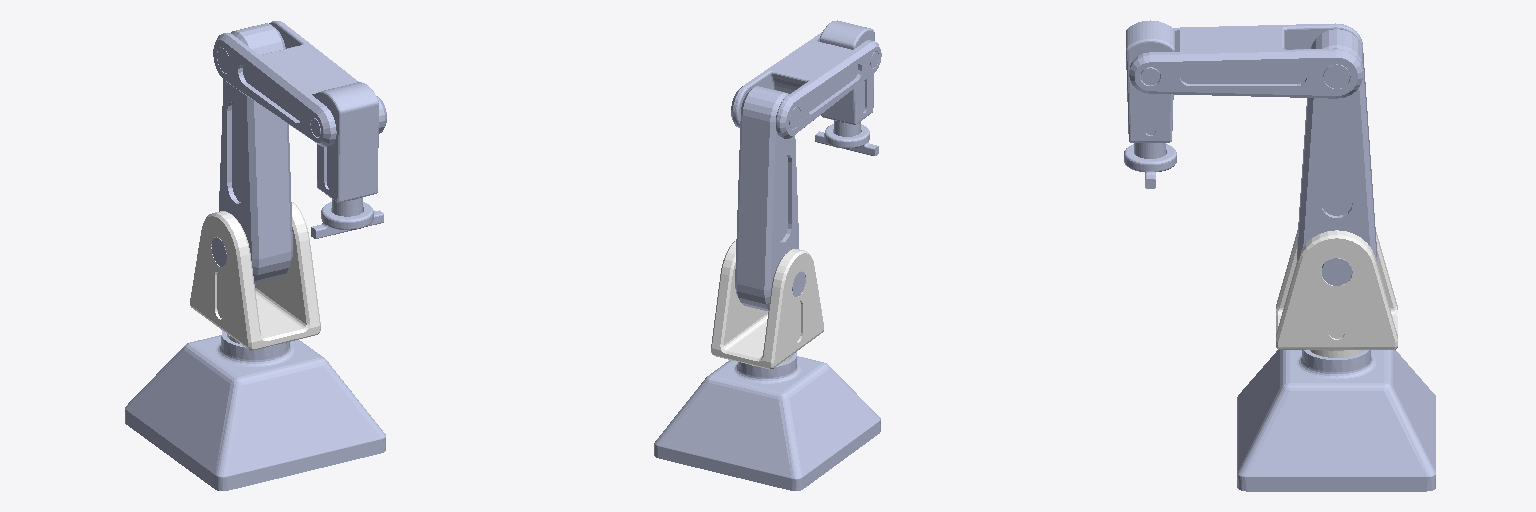
robot.urdf — Assembly_urdf_trial1:
<?xml version="1.0" encoding="utf-8"?>
<!-- This URDF was automatically created by SolidWorks to URDF Exporter! Originally created by [author] ([email redacted]) 
     Commit Version: 1.6.0-4-g7f85cfe  Build Version: 1.6.7995.38578
     For more information, please see http://wiki.ros.org/sw_urdf_exporter -->
<robot
  name="Assembly_urdf_trial1">
  <link
    name="base_link">
    <inertial>
      <origin
        xyz="3.4694E-18 6.245E-17 0.073876"
        rpy="0 0 0" />
      <mass
        value="17.147" />
      <inertia
        ixx="0.192"
        ixy="4.9423E-10"
        ixz="-1.1133E-18"
        iyy="0.192"
        iyz="2.525E-17"
        izz="0.29544" />
    </inertial>
    <visual>
      <origin
        xyz="0 0 0"
        rpy="0 0 0" />
      <geometry>
        <mesh
          filename="package://Assembly_urdf_trial1/meshes/base_link.STL" />
      </geometry>
      <material
        name="">
        <color
          rgba="0.79216 0.81961 0.93333 1" />
      </material>
    </visual>
    <collision>
      <origin
        xyz="0 0 0"
        rpy="0 0 0" />
      <geometry>
        <mesh
          filename="package://Assembly_urdf_trial1/meshes/base_link.STL" />
      </geometry>
    </collision>
  </link>
  <link
    name="Lni_1">
    <inertial>
      <origin
        xyz="-7.8988E-11 -2.5709E-14 0.31047"
        rpy="0 0 0" />
      <mass
        value="3.0905" />
      <inertia
        ixx="0.025388"
        ixy="-1.4177E-12"
        ixz="-7.4535E-12"
        iyy="0.026302"
        iyz="-2.53E-15"
        izz="0.019632" />
    </inertial>
    <visual>
      <origin
        xyz="0 0 0"
        rpy="0 0 0" />
      <geometry>
        <mesh
          filename="package://Assembly_urdf_trial1/meshes/Lni_1.STL" />
      </geometry>
      <material
        name="">
        <color
          rgba="1 1 1 1" />
      </material>
    </visual>
    <collision>
      <origin
        xyz="0 0 0"
        rpy="0 0 0" />
      <geometry>
        <mesh
          filename="package://Assembly_urdf_trial1/meshes/Lni_1.STL" />
      </geometry>
    </collision>
  </link>
  <joint
    name="Joint_1"
    type="revolute">
    <origin
      xyz="0 0 0"
      rpy="0 0 0" />
    <parent
      link="base_link" />
    <child
      link="Lni_1" />
    <axis
      xyz="0 0 1" />
    <limit
      lower="0"
      upper="3.14"
      effort="300"
      velocity="3" />
  </joint>
  <link
    name="Link_2">
    <inertial>
      <origin
        xyz="-1.7347E-17 -1.3878E-17 0.57252"
        rpy="0 0 0" />
      <mass
        value="5.5867" />
      <inertia
        ixx="0.12911"
        ixy="6.6174E-21"
        ixz="3.9362E-18"
        iyy="0.12632"
        iyz="2.3297E-18"
        izz="0.011401" />
    </inertial>
    <visual>
      <origin
        xyz="0 0 0"
        rpy="0 0 0" />
      <geometry>
        <mesh
          filename="package://Assembly_urdf_trial1/meshes/Link_2.STL" />
      </geometry>
      <material
        name="">
        <color
          rgba="0.79216 0.81961 0.93333 1" />
      </material>
    </visual>
    <collision>
      <origin
        xyz="0 0 0"
        rpy="0 0 0" />
      <geometry>
        <mesh
          filename="package://Assembly_urdf_trial1/meshes/Link_2.STL" />
      </geometry>
    </collision>
  </link>
  <joint
    name="Joint_2"
    type="revolute">
    <origin
      xyz="0 0 0"
      rpy="0 0 0" />
    <parent
      link="Lni_1" />
    <child
      link="Link_2" />
    <axis
      xyz="-1 0 0" />
    <limit
      lower="-1.57"
      upper="1.57"
      effort="200"
      velocity="3" />
  </joint>
  <link
    name="Link_3">
    <inertial>
      <origin
        xyz="-5.5511E-17 -0.17893 0.805"
        rpy="0 0 0" />
      <mass
        value="2.8262" />
      <inertia
        ixx="0.025128"
        ixy="1.9707E-17"
        ixz="-3.4736E-10"
        iyy="0.0074041"
        iyz="-2.4588E-18"
        izz="0.028552" />
    </inertial>
    <visual>
      <origin
        xyz="0 0 0"
        rpy="0 0 0" />
      <geometry>
        <mesh
          filename="package://Assembly_urdf_trial1/meshes/Link_3.STL" />
      </geometry>
      <material
        name="">
        <color
          rgba="0.79216 0.81961 0.93333 1" />
      </material>
    </visual>
    <collision>
      <origin
        xyz="0 0 0"
        rpy="0 0 0" />
      <geometry>
        <mesh
          filename="package://Assembly_urdf_trial1/meshes/Link_3.STL" />
      </geometry>
    </collision>
  </link>
  <joint
    name="Joint_3"
    type="revolute">
    <origin
      xyz="0 0 0"
      rpy="0 0 0" />
    <parent
      link="Link_2" />
    <child
      link="Link_3" />
    <axis
      xyz="1 0 0" />
    <limit
      lower="0"
      upper="3.14"
      effort="200"
      velocity="3" />
  </joint>
  <link
    name="Link_4">
    <inertial>
      <origin
        xyz="-1.0408E-17 -0.35 0.75333"
        rpy="0 0 0" />
      <mass
        value="1.8097" />
      <inertia
        ixx="0.0093908"
        ixy="1.8694E-19"
        ixz="-2.4653E-19"
        iyy="0.0096102"
        iyz="5.6659E-18"
        izz="0.0023112" />
    </inertial>
    <visual>
      <origin
        xyz="0 0 0"
        rpy="0 0 0" />
      <geometry>
        <mesh
          filename="package://Assembly_urdf_trial1/meshes/Link_4.STL" />
      </geometry>
      <material
        name="">
        <color
          rgba="0.79216 0.81961 0.93333 1" />
      </material>
    </visual>
    <collision>
      <origin
        xyz="0 0 0"
        rpy="0 0 0" />
      <geometry>
        <mesh
          filename="package://Assembly_urdf_trial1/meshes/Link_4.STL" />
      </geometry>
    </collision>
  </link>
  <joint
    name="Joint_4"
    type="revolute">
    <origin
      xyz="0 0 0"
      rpy="0 0 0" />
    <parent
      link="Link_3" />
    <child
      link="Link_4" />
    <axis
      xyz="1 0 0" />
    <limit
      lower="0"
      upper="-3.14"
      effort="200"
      velocity="3" />
  </joint>
  <link
    name="Link_5">
    <inertial>
      <origin
        xyz="1.3878E-17 -0.35 0.59846"
        rpy="0 0 0" />
      <mass
        value="0.19053" />
      <inertia
        ixx="0.00011843"
        ixy="1.9664E-11"
        ixz="8.9939E-21"
        iyy="0.00022817"
        iyz="-2.3495E-19"
        izz="0.00030197" />
    </inertial>
    <visual>
      <origin
        xyz="0 0 0"
        rpy="0 0 0" />
      <geometry>
        <mesh
          filename="package://Assembly_urdf_trial1/meshes/Link_5.STL" />
      </geometry>
      <material
        name="">
        <color
          rgba="0.79216 0.81961 0.93333 1" />
      </material>
    </visual>
    <collision>
      <origin
        xyz="0 0 0"
        rpy="0 0 0" />
      <geometry>
        <mesh
          filename="package://Assembly_urdf_trial1/meshes/Link_5.STL" />
      </geometry>
    </collision>
  </link>
  <joint
    name="Joint_5"
    type="revolute">
    <origin
      xyz="0 0 0"
      rpy="0 0 0" />
    <parent
      link="Link_4" />
    <child
      link="Link_5" />
    <axis
      xyz="0 0 1" />
    <limit
      lower="0"
      upper="3.14"
      effort="200"
      velocity="3" />
  </joint>
</robot>

--- What the picture shows (computed from the rendered views, not written in the file) ---
Views: 3 orthographic renders of the robot side by side, from view 1: azimuth 30°, elevation 25°; view 2: azimuth 150°, elevation 25°; view 3: azimuth 270°, elevation 25°.
Model Assembly_urdf_trial1 with 6 links and 5 joints (5 revolute), rooted at base_link, posed all joints at 0.
Links seen in each view (by area): view 1: base_link, Link_2, Lni_1, Link_3, Link_4, Link_5; view 2: base_link, Link_2, Lni_1, Link_3, Link_4, Link_5; view 3: base_link, Link_3, Link_2, Lni_1, Link_4, Link_5.
Link boxes in pixels (x1,y1,x2,y2): base_link: (125,330,385,490); Link_2: (211,23,292,283); Lni_1: (190,201,320,350); Link_3: (213,21,386,146); Link_4: (311,82,378,216); Link_5: (311,202,383,238); base_link: (654,352,880,490); Link_2: (735,86,805,311); Lni_1: (711,241,823,369); Link_3: (731,32,881,138); Link_4: (820,20,878,136); Link_5: (815,124,878,155); base_link: (1237,350,1435,491); Link_3: (1129,23,1362,98); Link_2: (1297,29,1376,285); Lni_1: (1276,230,1397,357); Link_4: (1126,20,1174,158); Link_5: (1124,144,1176,188).
Size in the robot's own frame: 0.3732 by 0.5866 by 0.87 metres.
Meshes: 6 distinct files referenced, 6 mesh visuals loaded (6 binary STL).